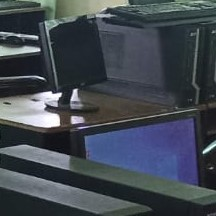monitor: (83, 10, 204, 108), (73, 108, 207, 187), (39, 14, 107, 112)
